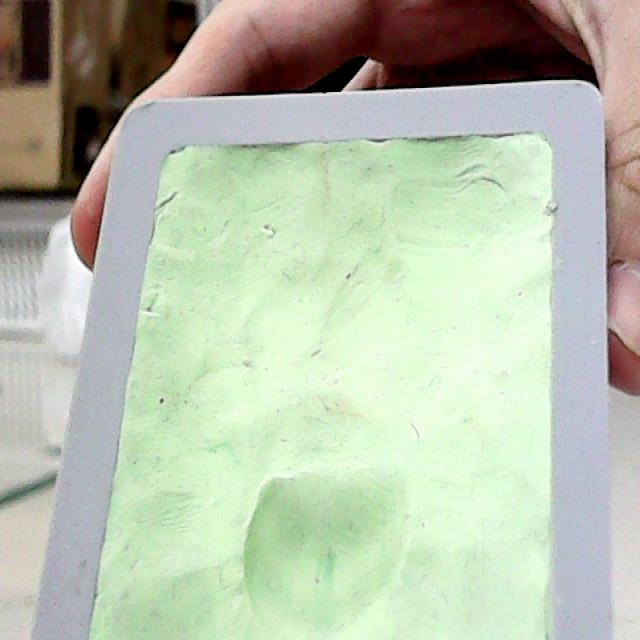block: (18, 83, 614, 635)
